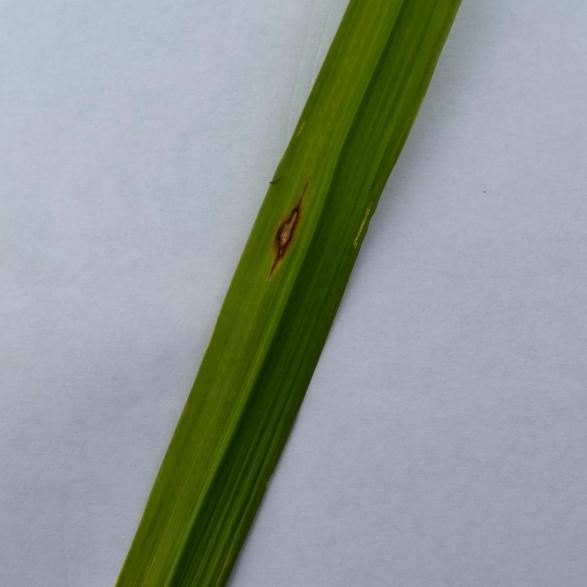Leaf_smut: (259, 172, 319, 270)
